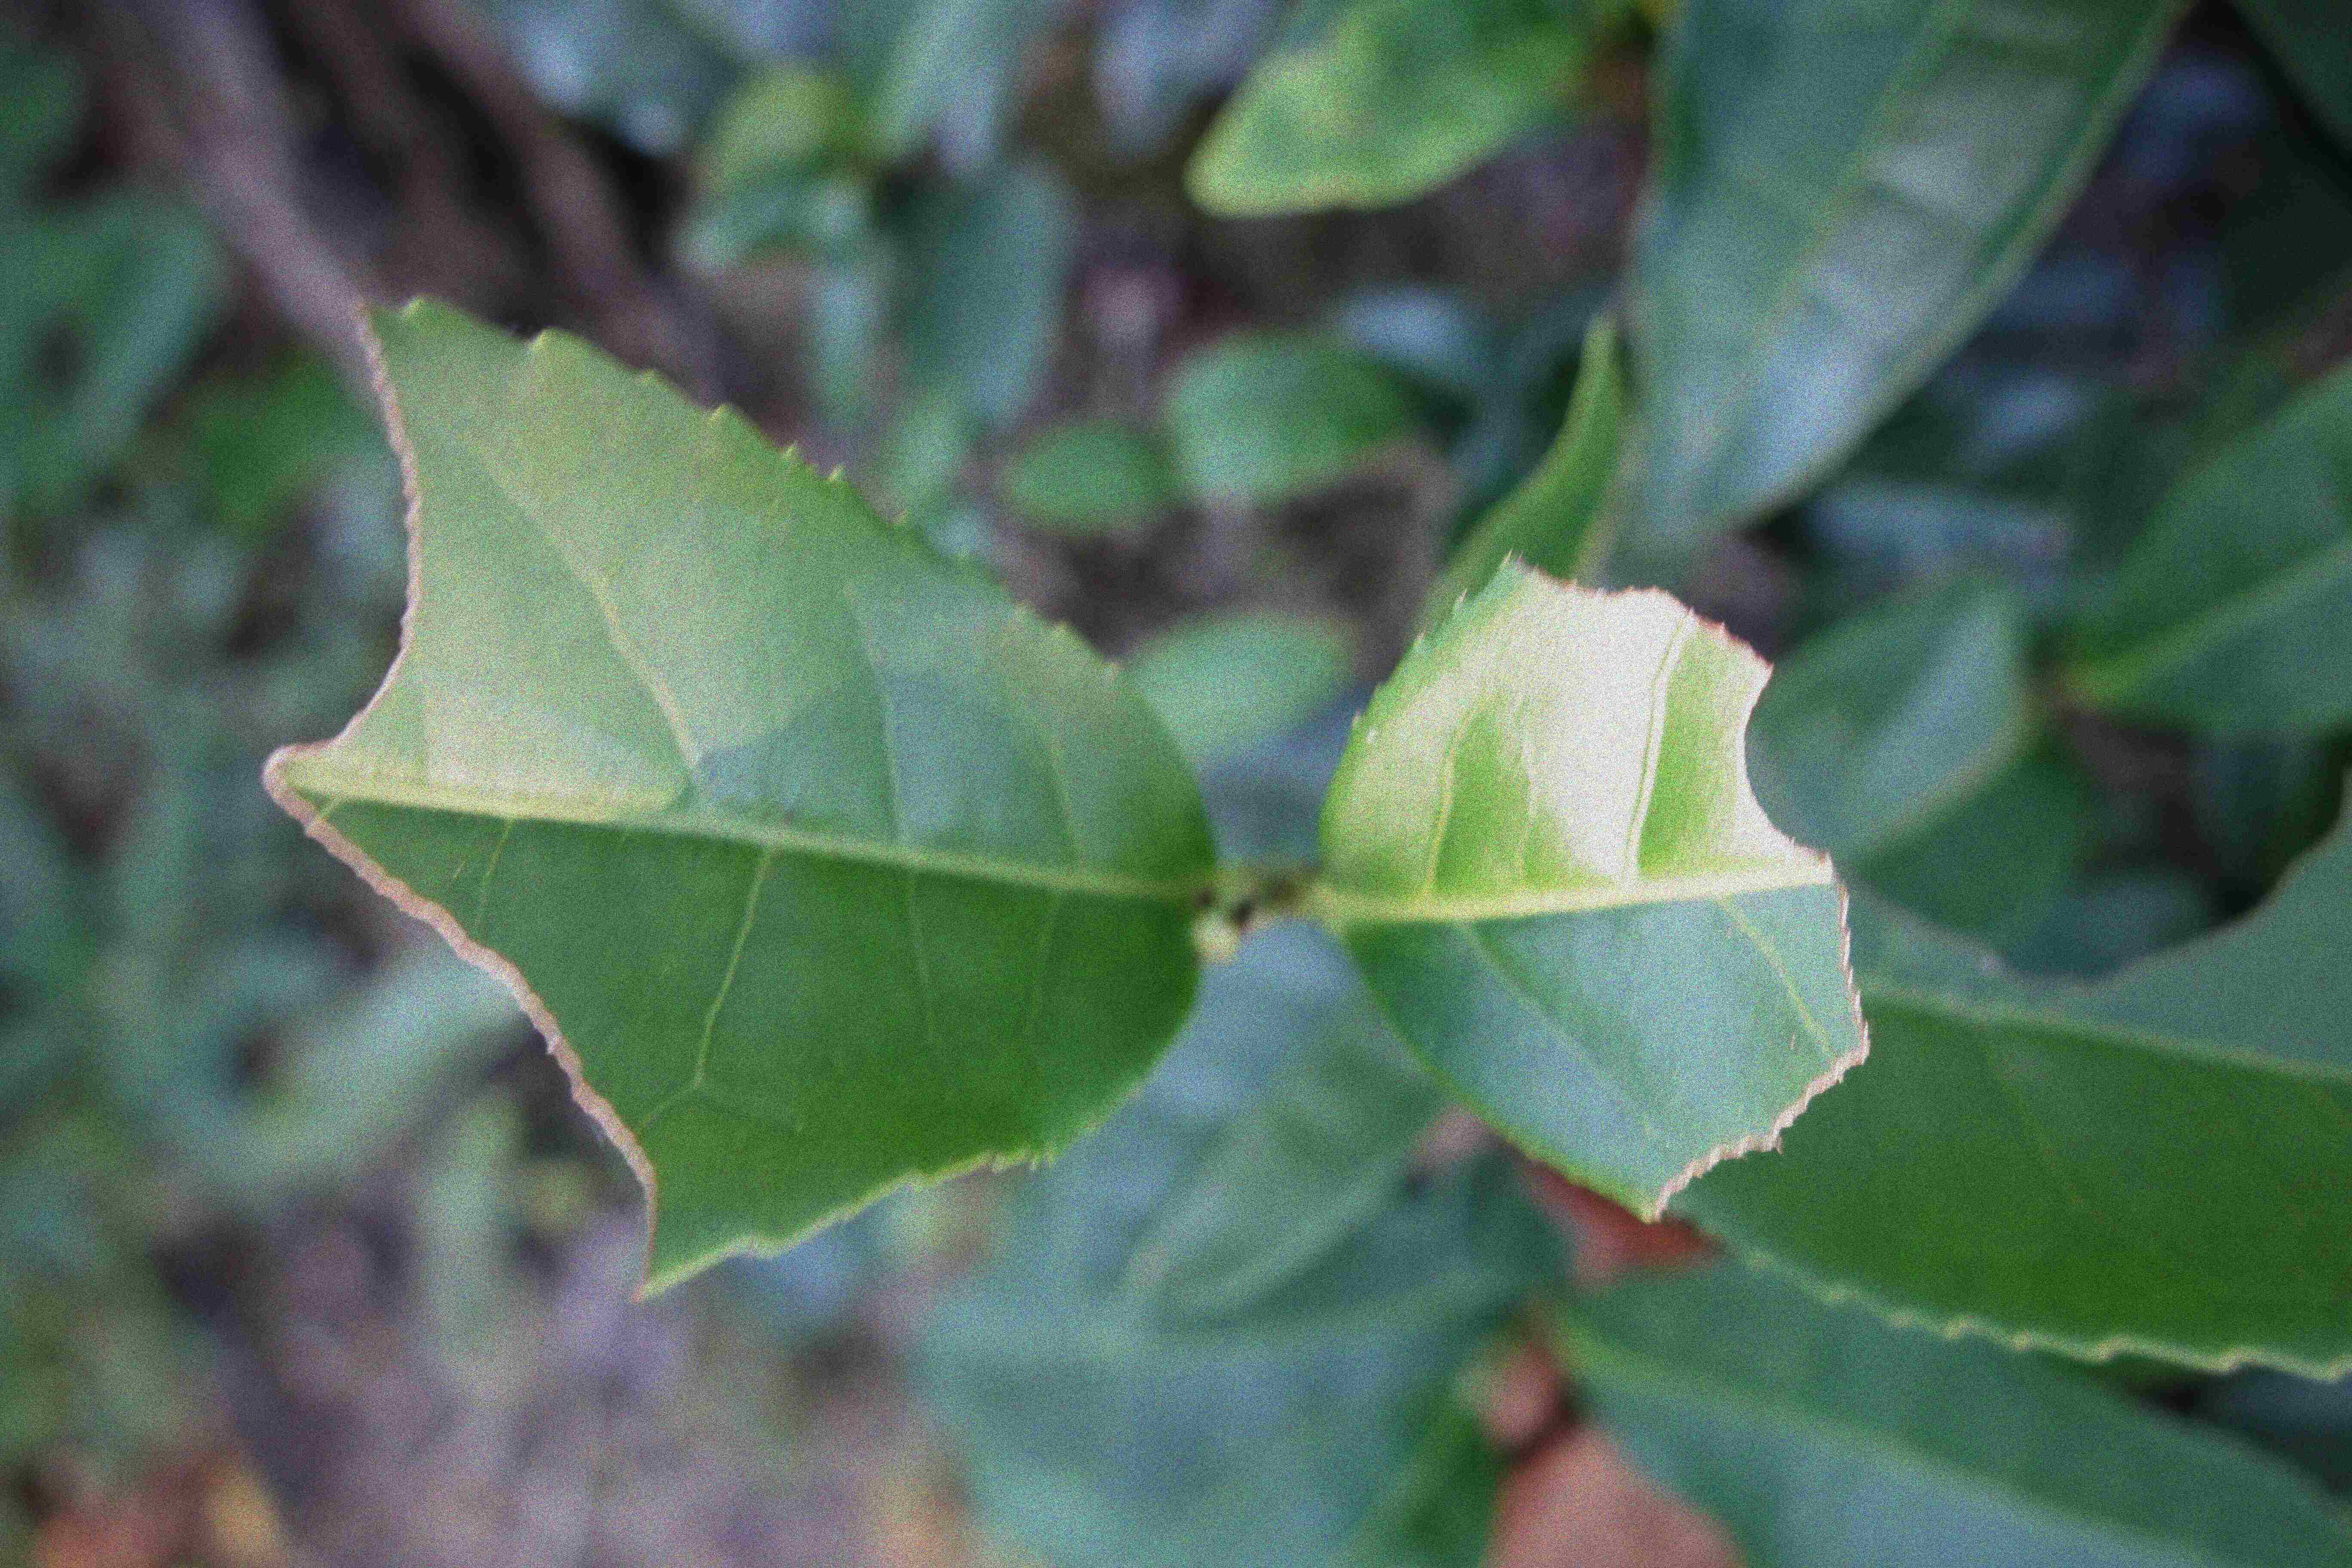chihuo_high: (254, 294, 1237, 1312), (1323, 539, 1885, 1227)
